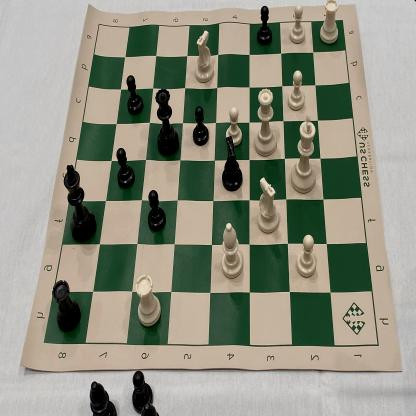black-king: (62, 164, 100, 245), (294, 231, 319, 279)
black-knight: (220, 136, 248, 192)
black-pawn: (146, 186, 168, 234), (115, 146, 136, 191), (255, 3, 274, 49), (125, 72, 144, 116), (192, 105, 210, 150)
black-queen: (155, 85, 180, 158)
black-rook: (51, 276, 82, 334)
white-bishop: (219, 219, 245, 282), (288, 4, 308, 44)
white-king: (288, 112, 320, 195)
white-knight: (256, 173, 279, 236), (194, 26, 216, 85)
white-pawn: (286, 69, 308, 112), (225, 105, 245, 148)
white-queen: (253, 85, 277, 158)
white-rook: (133, 269, 164, 331), (318, 0, 341, 46)
